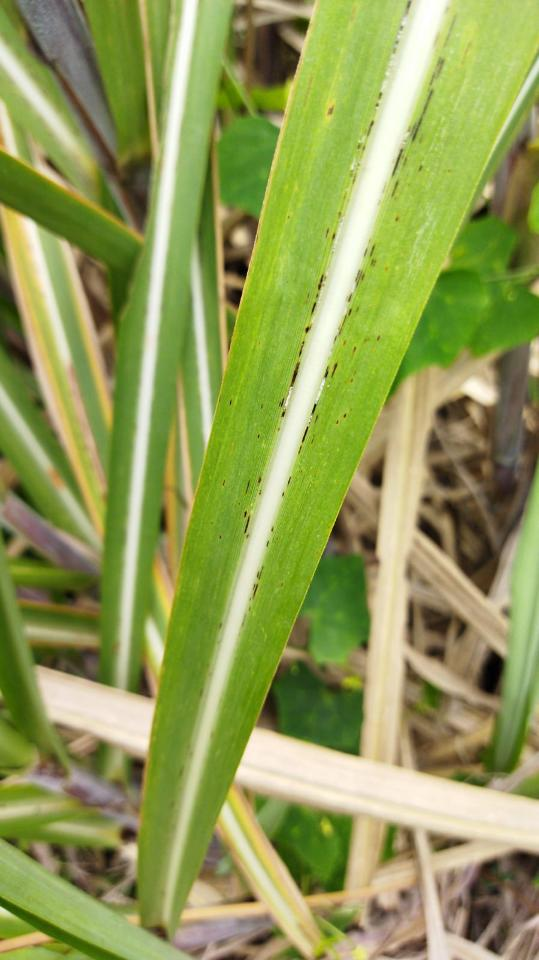Rust: (275, 1, 415, 420), (295, 239, 380, 457), (388, 12, 464, 203), (247, 565, 268, 612), (241, 507, 252, 540), (280, 475, 294, 498), (333, 411, 350, 427), (325, 101, 338, 119), (244, 479, 253, 495), (227, 395, 235, 408), (375, 331, 383, 343), (417, 163, 425, 173), (257, 475, 265, 485), (394, 213, 401, 224), (220, 478, 227, 489), (264, 538, 271, 549), (258, 402, 266, 411), (270, 524, 276, 534), (255, 433, 262, 440), (258, 489, 264, 496)
